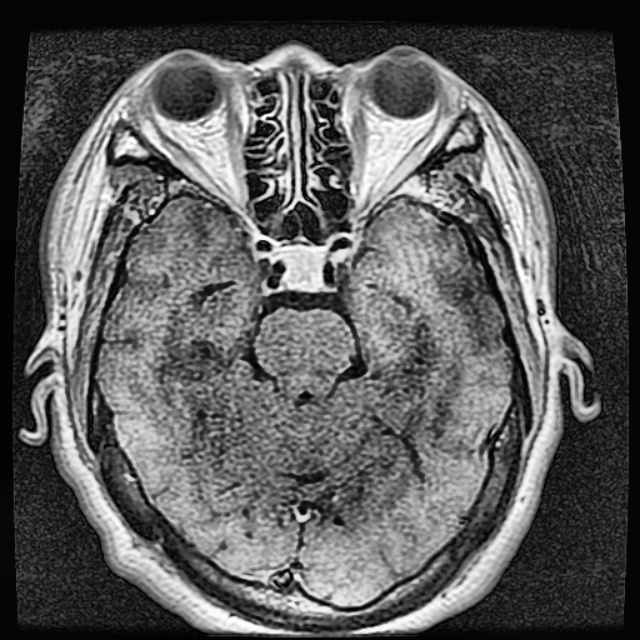Pituitary: (278, 244, 325, 290)
